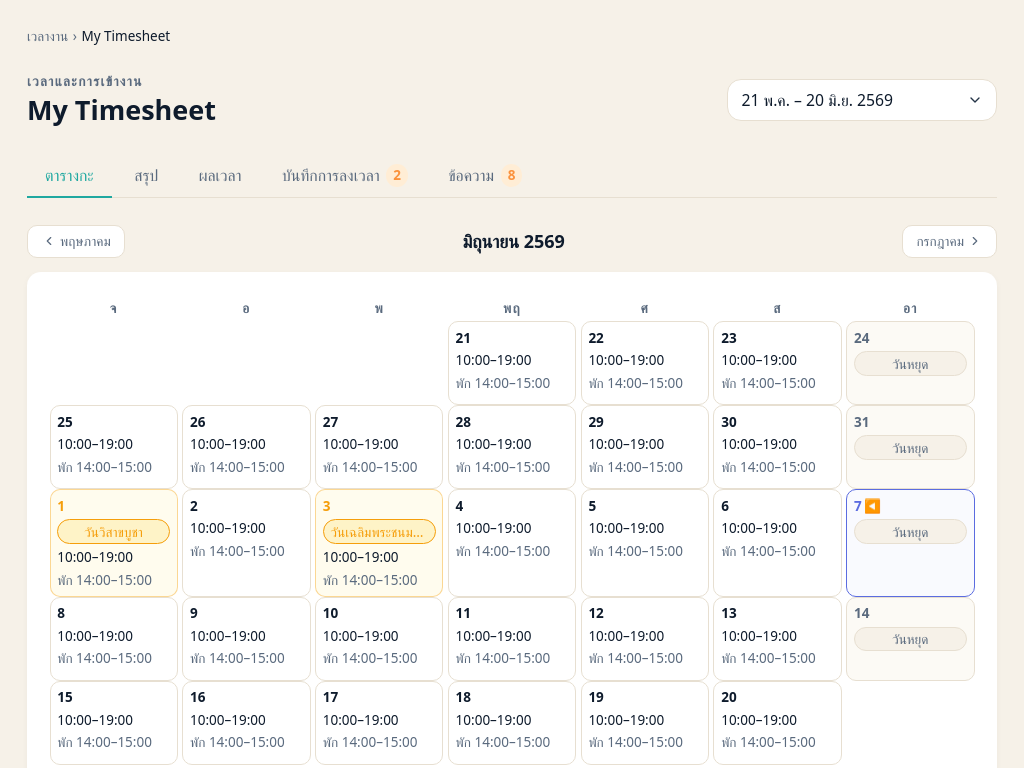
Test: STA-239 Summary Draft-2 › selecting a past period empties the summary table (no seeded data outside the demo period)
The width and height of the screenshot is (1024, 768).
Click the tab "สรุป" at (146, 176), box [116,155,176,198]
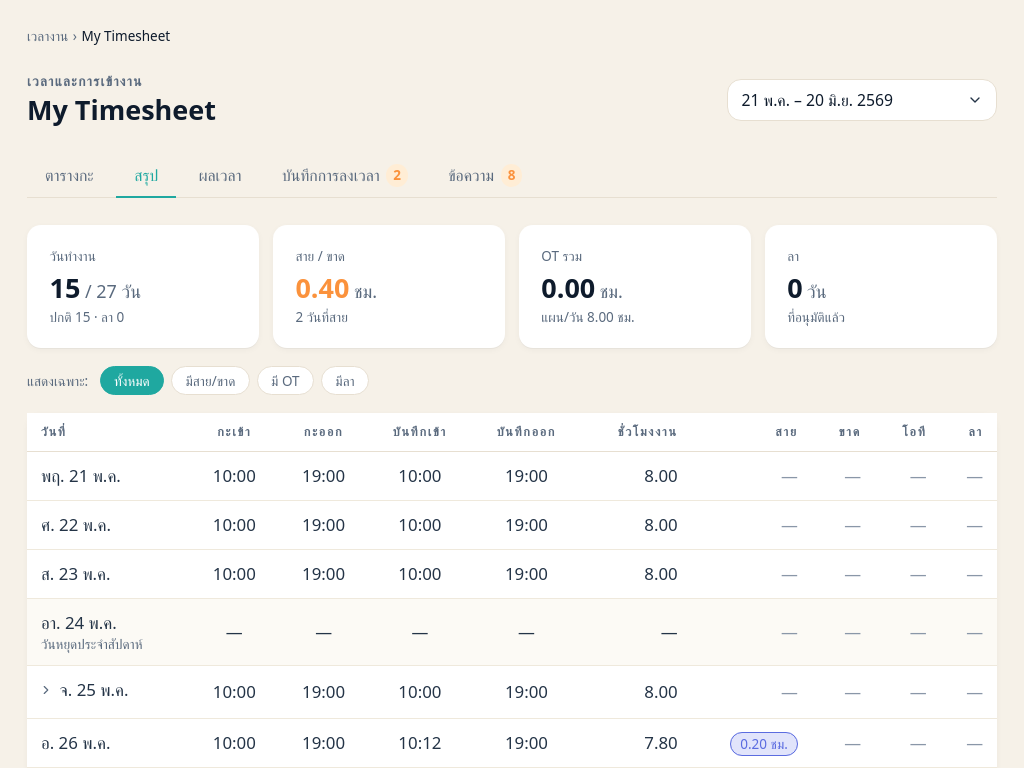
Click the button named "เลือกกะ/รอบเวลา" at (862, 100), box [727,79,997,121]
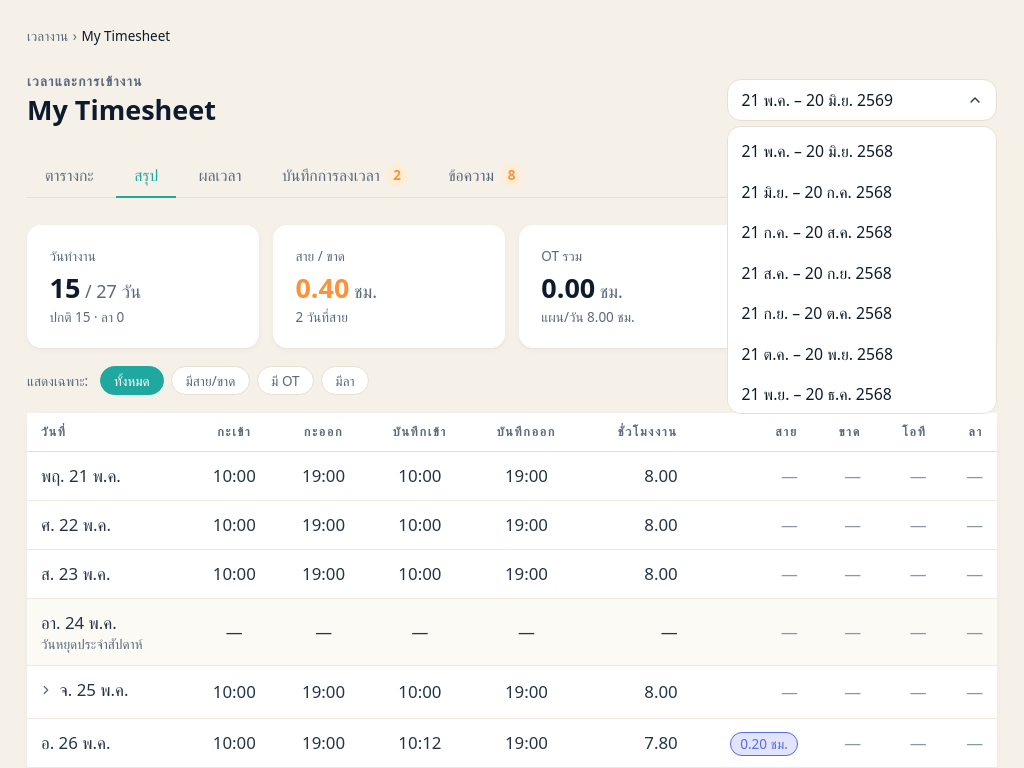
Click the option "21 พ.ค. – 20 มิ.ย. 2568" at (817, 151), box [742,140,893,162]
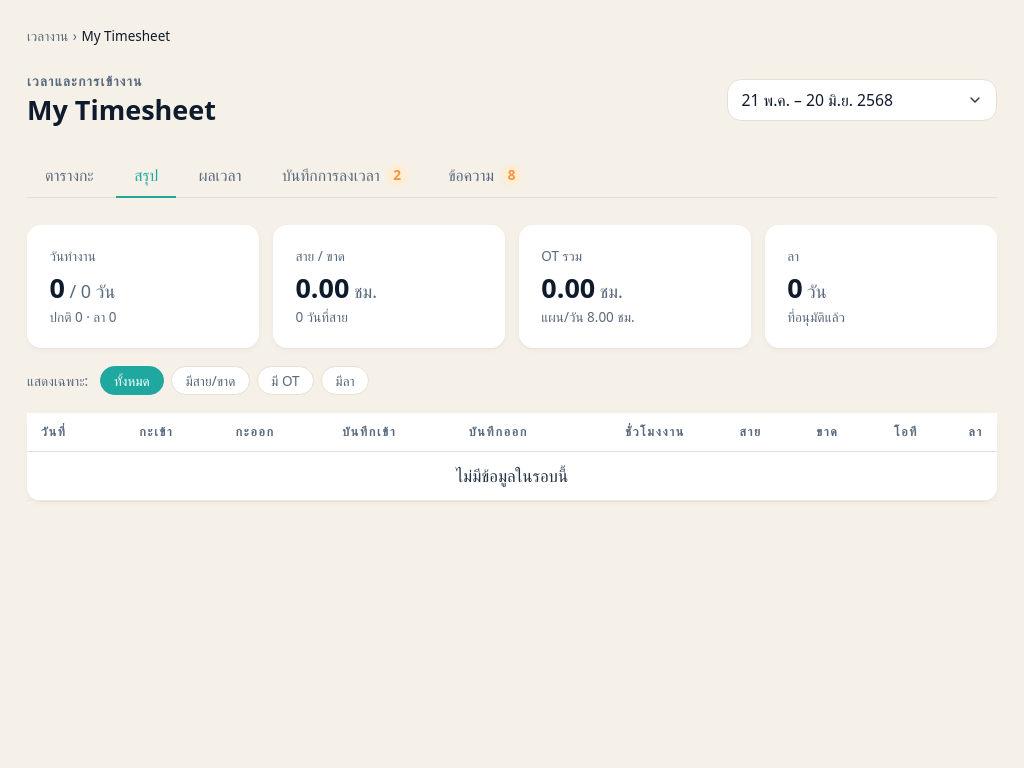
Check: the text "ไม่มีข้อมูลในรอบนี้" is shown, box [27,452,997,501]
